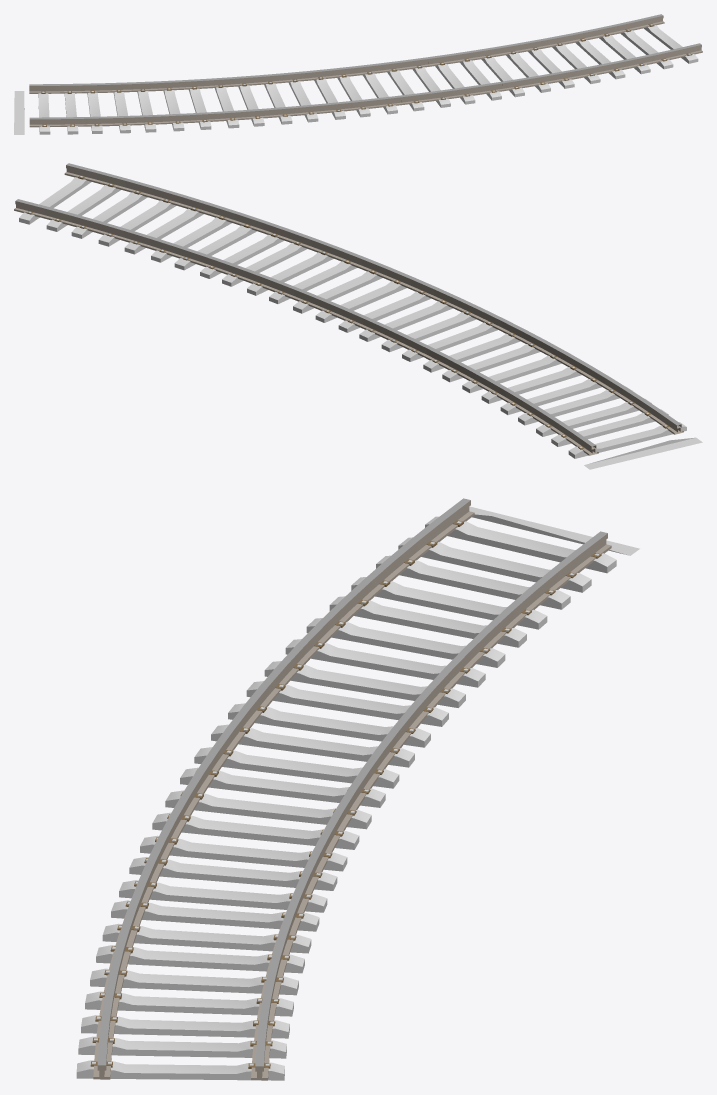
The model's file is road8.fbx.
3 views of the same model, one above another, from view 1: azimuth 30°, elevation 25°; view 2: azimuth 150°, elevation 25°; view 3: azimuth 270°, elevation 25° (orthographic). The views are drawn at different scales.
Visible parts, largest first — view 1: Null_1_3; view 2: Null_1_3; view 3: Null_1_3.
Boxes of the visible parts, bbox=[...] form: Null_1_3: bbox=[14, 14, 702, 134]; Null_1_3: bbox=[14, 163, 702, 469]; Null_1_3: bbox=[76, 498, 639, 1080].
Bounding box in the file's own units: 2825 × 50.48 × 1153.
